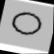no answer: (4, 6, 47, 39)
